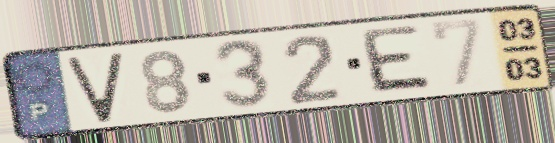2: (279, 31, 347, 107)
3: (214, 37, 271, 113)
7: (426, 14, 492, 92)
8: (137, 48, 196, 116)
E: (360, 23, 438, 96)
V: (63, 49, 126, 126)
